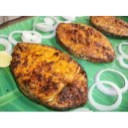seerfish: (10, 42, 87, 109), (56, 22, 117, 61), (91, 15, 128, 38)
